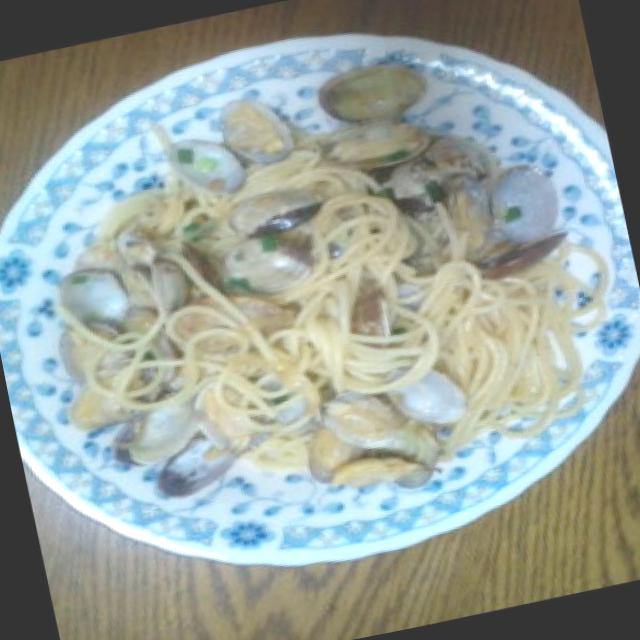Pasta: (52, 76, 591, 538)
